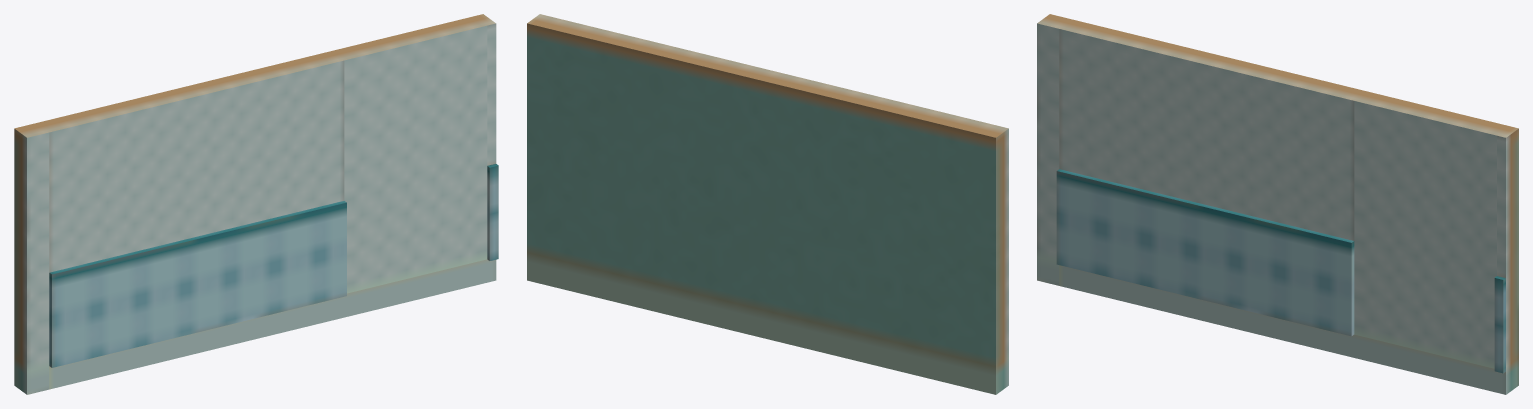
Rendered from WallGroundFloorLeftSide_A_00.fbx.
3 views of the same model, side by side, from view 1: azimuth 30°, elevation 25°; view 2: azimuth 150°, elevation 25°; view 3: azimuth 330°, elevation 25° (orthographic).
Visible parts, largest first — view 1: WallGroundFloorLeftSide_A_00; view 2: WallGroundFloorLeftSide_A_00; view 3: WallGroundFloorLeftSide_A_00.
Boxes of the visible parts, <box> form: WallGroundFloorLeftSide_A_00: <box>14,14,498,394</box>; WallGroundFloorLeftSide_A_00: <box>527,14,1008,394</box>; WallGroundFloorLeftSide_A_00: <box>1037,14,1518,394</box>.
Size of the model in its own units: 525 by 30 by 275.
Materials: 1 (1 with a texture image).
